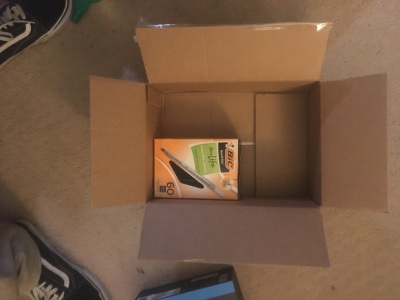innerbox: (145, 83, 322, 210)
outerbox: (87, 25, 390, 264)
product: (153, 139, 240, 201)
